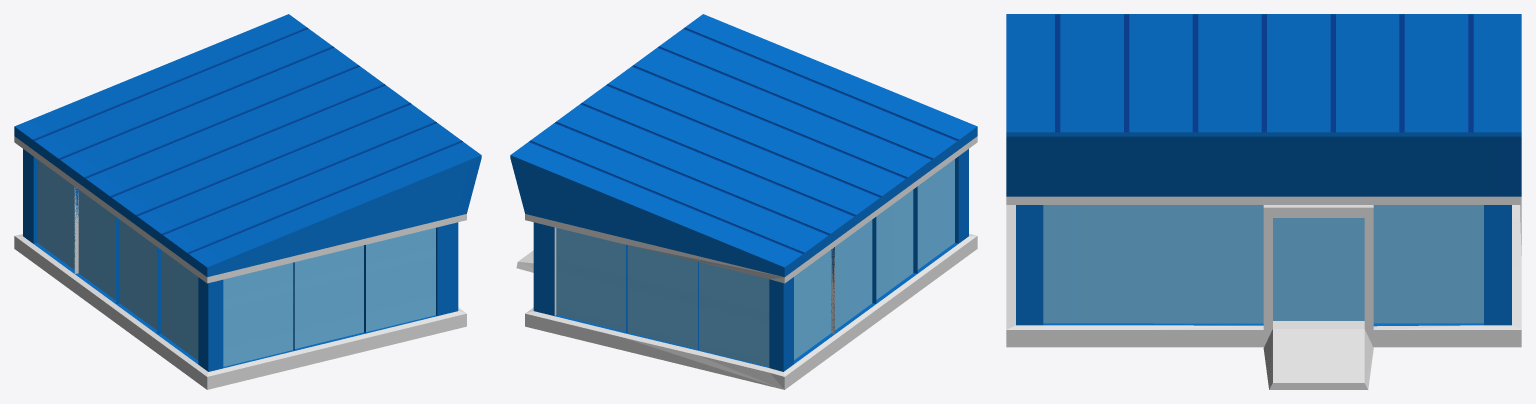
The model's file is Shop.fbx.
3 views of the same model, side by side, from view 1: azimuth 30°, elevation 25°; view 2: azimuth 150°, elevation 25°; view 3: azimuth 270°, elevation 25° (orthographic). The views are drawn at different scales.
Visible parts, largest first — view 1: Shop; view 2: Shop; view 3: Shop.
Boxes of the visible parts, left/top/right/bottom form: Shop: left=14, top=14, right=481, bottom=389; Shop: left=510, top=14, right=977, bottom=389; Shop: left=1006, top=14, right=1521, bottom=389.
Bounding box in the file's own units: 3653 × 1800 × 3744.
Materials: 1 (1 with a texture image).
